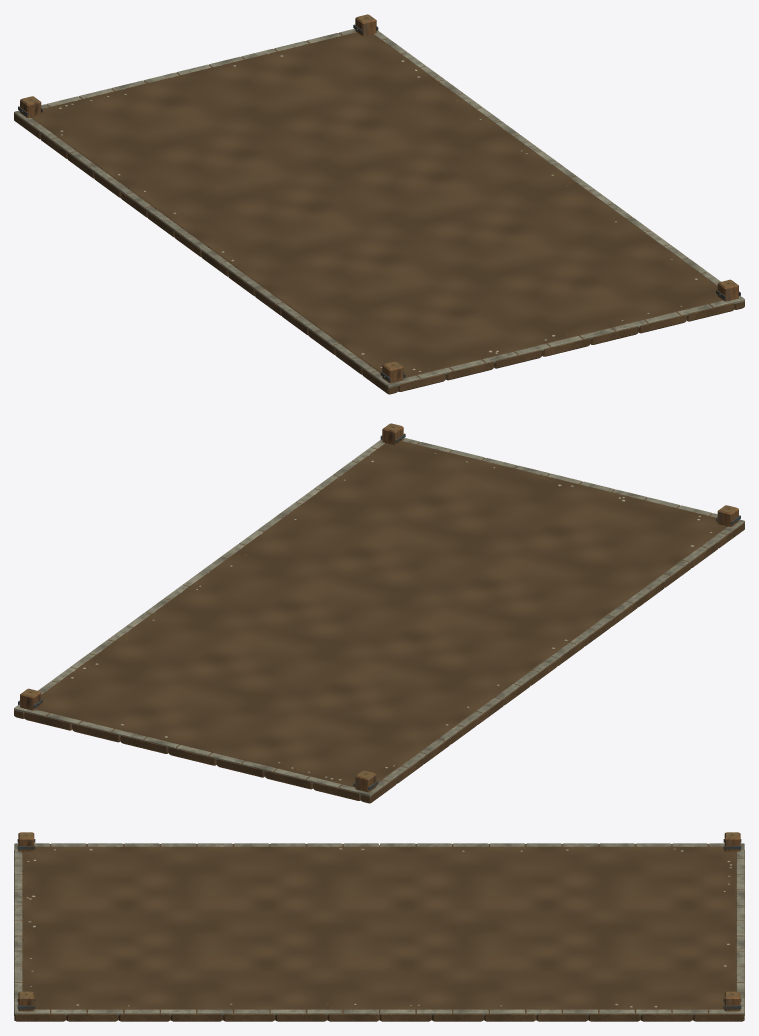
File: arena_01.fbx
The picture shows the model from 3 angles, top to bottom: view 1: azimuth 30°, elevation 25°; view 2: azimuth 150°, elevation 25°; view 3: azimuth 270°, elevation 25°; orthographic projection. The views are drawn at different scales.
Visible parts, largest first — view 1: arena_01; view 2: arena_01; view 3: arena_01.
Boxes of the visible parts, bbox=[...] form: arena_01: bbox=[14, 14, 744, 394]; arena_01: bbox=[14, 423, 744, 803]; arena_01: bbox=[14, 832, 744, 1021].
Bounding box in the file's own units: 55000 × 100000 × 3400.
